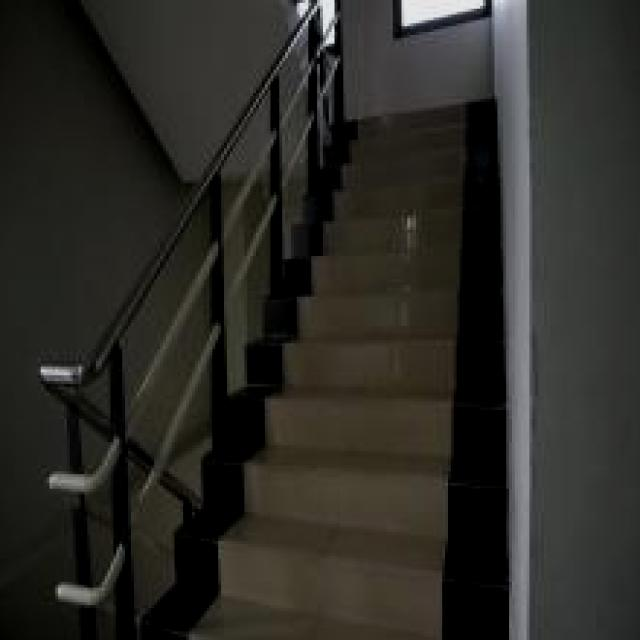upstair: (347, 105, 501, 640)
